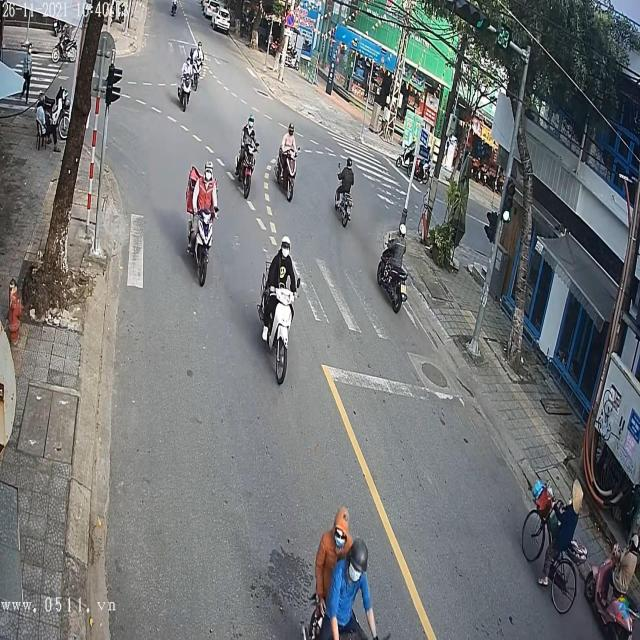motorcycle: (258, 263, 302, 392), (189, 193, 217, 292), (374, 236, 408, 312), (234, 131, 262, 203), (272, 140, 300, 204), (178, 67, 193, 113), (335, 192, 353, 228)
